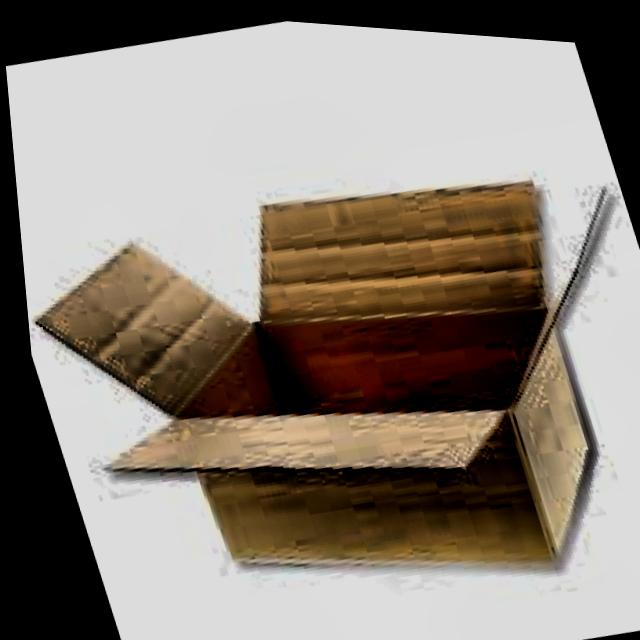Cardbox: (4, 63, 640, 640)
